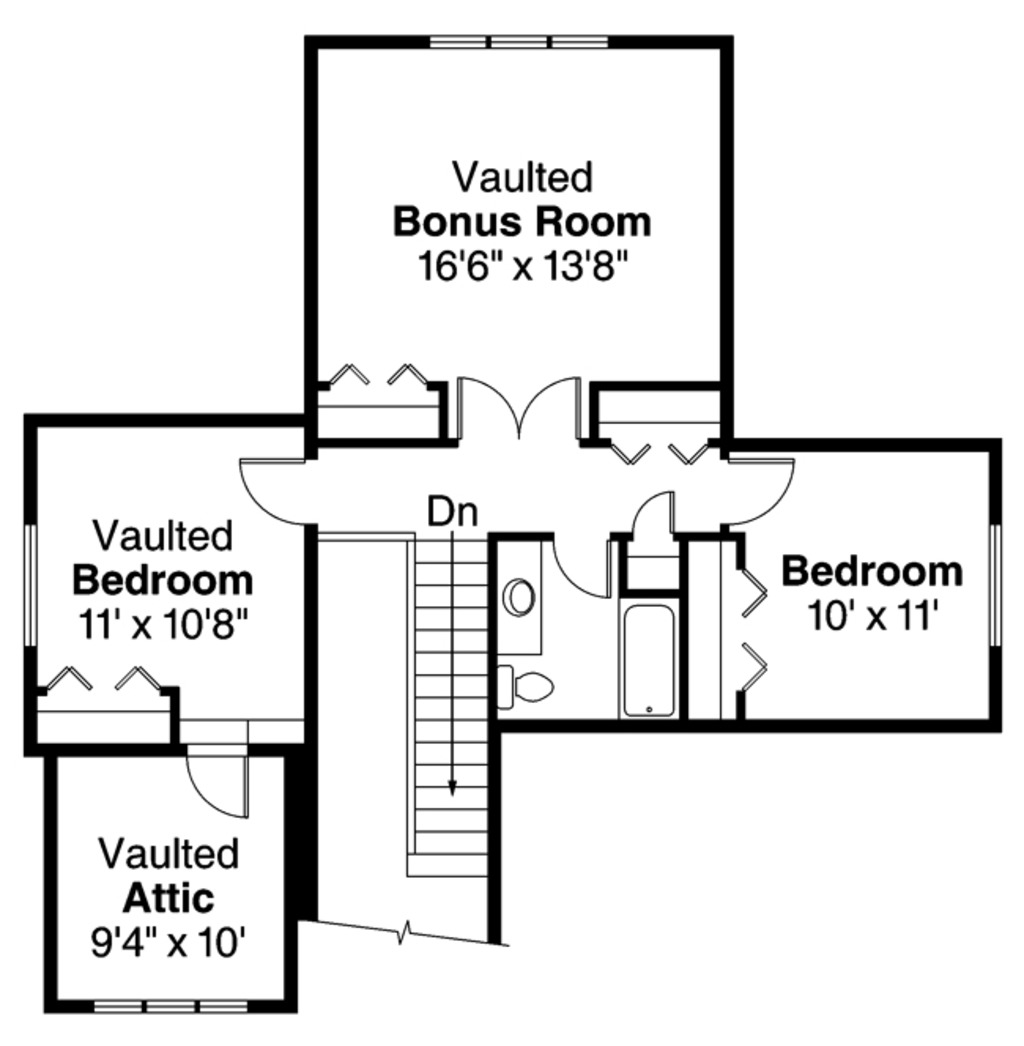door: (461, 378, 583, 443), (717, 454, 799, 524), (237, 459, 322, 526), (191, 748, 258, 827), (549, 529, 614, 603), (628, 483, 675, 541)
large_sink: (499, 660, 559, 720)
small_sink: (493, 537, 558, 656)
stairs: (318, 530, 496, 881)
tub: (607, 597, 680, 716)
window: (20, 516, 41, 645), (985, 527, 1005, 651)
windows: (429, 27, 612, 56), (95, 995, 253, 1013)
